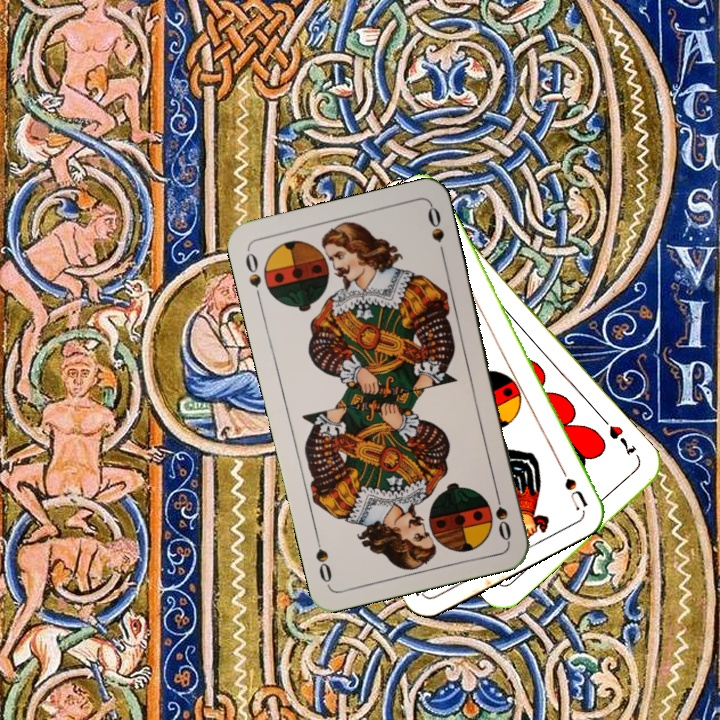H7: (604, 421, 639, 459)
SO: (490, 485, 514, 544), (241, 246, 264, 305)
SU: (552, 455, 591, 512)
